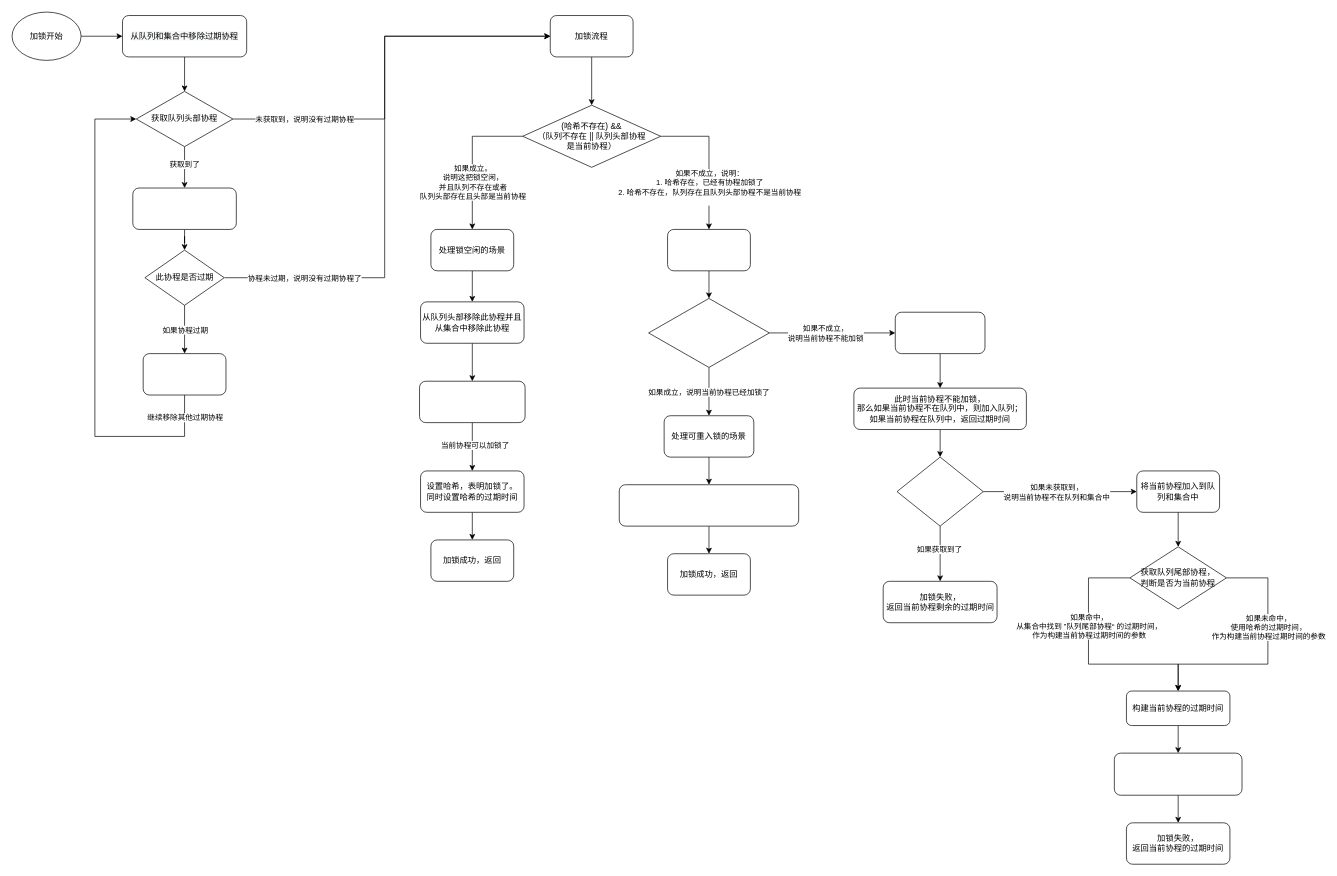
This 1337x876 diagram has some shape labels left out. The box of each missing label's shape, as (x1, y1, x2, y2) in pixels:
从队列和集合中移除此协程: (142, 353, 226, 395)
从集合中获取当前 协程的过期时间: (896, 456, 983, 526)
判断哈希是否存在， 并且哈希中是否为当前协程: (648, 298, 769, 367)
哈希中当前协程的字段值加一（实现可重入锁） 且重新设置哈希的过期时间: (619, 484, 799, 526)
在集合中查询此协程的分数 （即此协程的过期时间）: (132, 187, 236, 229)
处理无法加锁的场景: (895, 312, 985, 354)
处理锁被占用的场景: (667, 229, 750, 271)
将当前协程插入到队列和集合中， 集合分数为当前协程的过期时间: (1114, 752, 1242, 795)
获取所有正在等待的协程， 减小他们的过期时间: (419, 381, 525, 423)
